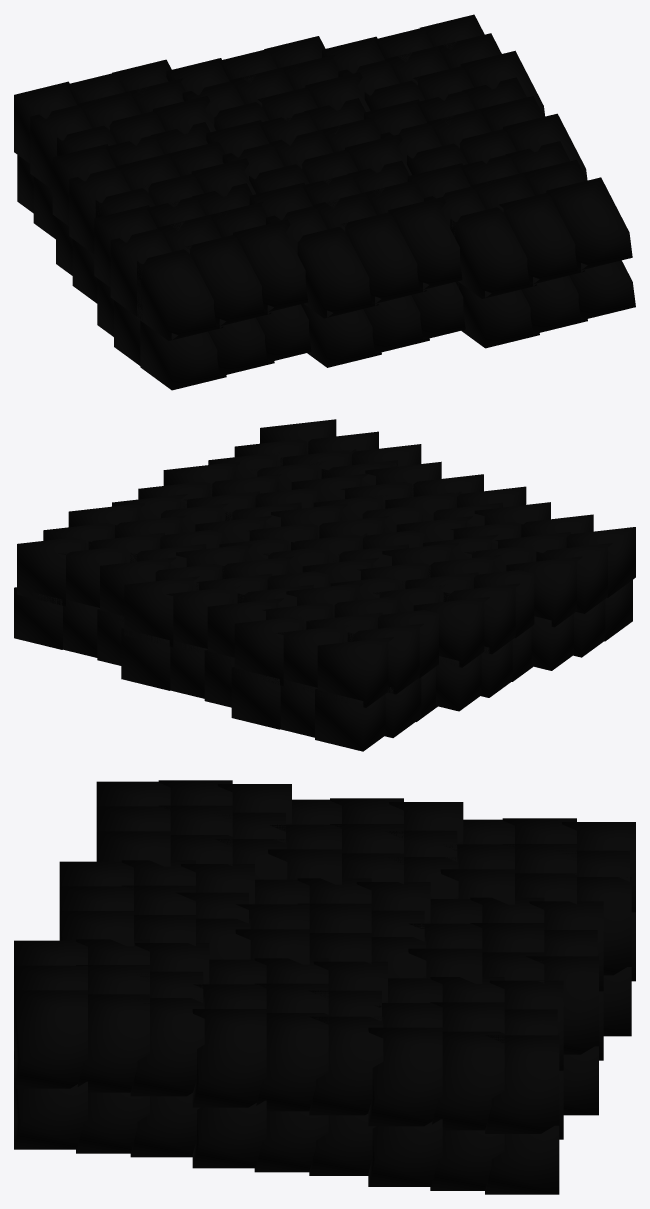
Rendered from coal.glb.
3 views of the same model, one above another, from view 1: azimuth 30°, elevation 25°; view 2: azimuth 150°, elevation 25°; view 3: azimuth 270°, elevation 25° (orthographic). The views are drawn at different scales.
Parts seen in each view (by area): view 1: Cube.111, Cube.165, Cube.138, Cube.163, Cube.164, Cube.137, Cube.110, Cube.109, Cube.136, Cube.020, Cube.075, Cube.048 (+84 smaller); view 2: Cube.106, Cube.015, Cube.153, Cube.126, Cube.108, Cube.097, Cube.115, Cube.017, Cube.035, Cube.125, Cube.103, Cube.094 (+86 smaller); view 3: Cube.163, Cube.145, Cube.154, Cube.153, Cube.150, Cube.159, Cube.168, Cube.162, Cube.171, Cube.073, Cube.064, Cube.055 (+80 smaller).
Part boxes in pixels (x1=…): Cube.111: x1=137, y1=249, x2=223, y2=340; Cube.165: x1=450, y1=207, x2=536, y2=298; Cube.138: x1=297, y1=227, x2=378, y2=318; Cube.163: x1=546, y1=177, x2=632, y2=270; Cube.164: x1=499, y1=193, x2=584, y2=284; Cube.137: x1=341, y1=212, x2=426, y2=304; Cube.110: x1=185, y1=235, x2=271, y2=326; Cube.109: x1=233, y1=219, x2=307, y2=312; Cube.136: x1=388, y1=197, x2=462, y2=290; Cube.020: x1=140, y1=320, x2=226, y2=390; Cube.075: x1=455, y1=281, x2=539, y2=348; Cube.048: x1=301, y1=303, x2=381, y2=367; Cube.106: x1=317, y1=637, x2=393, y2=707; Cube.015: x1=315, y1=689, x2=385, y2=751; Cube.153: x1=17, y1=537, x2=85, y2=606; Cube.126: x1=124, y1=576, x2=199, y2=647; Cube.108: x1=234, y1=616, x2=306, y2=685; Cube.097: x1=413, y1=597, x2=489, y2=667; Cube.115: x1=506, y1=556, x2=582, y2=627; Cube.017: x1=231, y1=667, x2=280, y2=729; Cube.035: x1=121, y1=628, x2=170, y2=690; Cube.125: x1=166, y1=585, x2=240, y2=650; Cube.103: x1=347, y1=623, x2=423, y2=694; Cube.094: x1=443, y1=583, x2=519, y2=654; Cube.163: x1=14, y1=990, x2=87, y2=1088; Cube.145: x1=368, y1=1027, x2=442, y2=1126; Cube.154: x1=192, y1=1009, x2=266, y2=1107; Cube.153: x1=485, y1=1035, x2=559, y2=1133; Cube.150: x1=432, y1=1031, x2=504, y2=1130; Cube.159: x1=256, y1=1013, x2=328, y2=1111; Cube.168: x1=77, y1=994, x2=149, y2=1092; Cube.162: x1=309, y1=1016, x2=383, y2=1115; Cube.171: x1=130, y1=998, x2=204, y2=1096; Cube.073: x1=14, y1=1051, x2=87, y2=1149; Cube.064: x1=192, y1=1100, x2=266, y2=1168; Cube.055: x1=368, y1=1119, x2=442, y2=1186.
Bounding box in the file's own units: 1.15 × 0.2439 × 1.05.
Materials: 1 (1 with a texture image).
